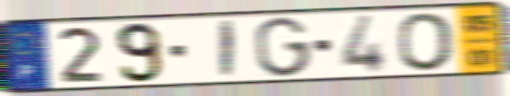2: (57, 25, 104, 84)
4: (338, 13, 388, 75)
9: (112, 20, 166, 85)
G: (253, 15, 312, 80)
I: (218, 19, 238, 81)
O: (395, 10, 457, 73)
